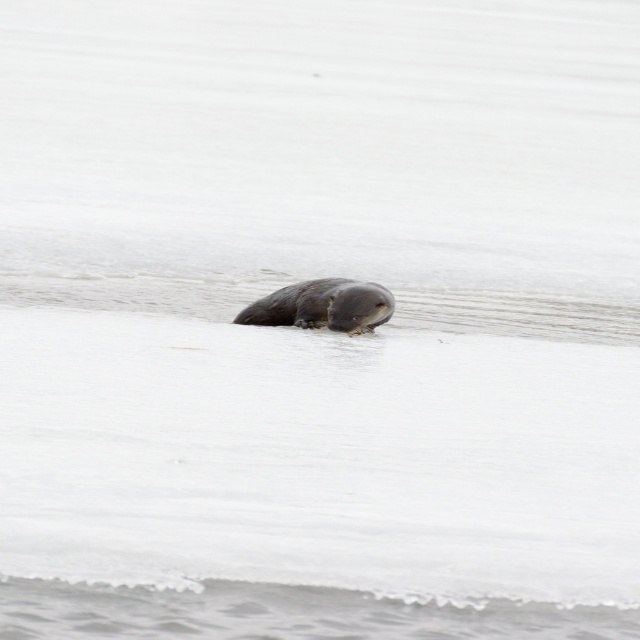Harbor seal: (235, 274, 397, 332)
